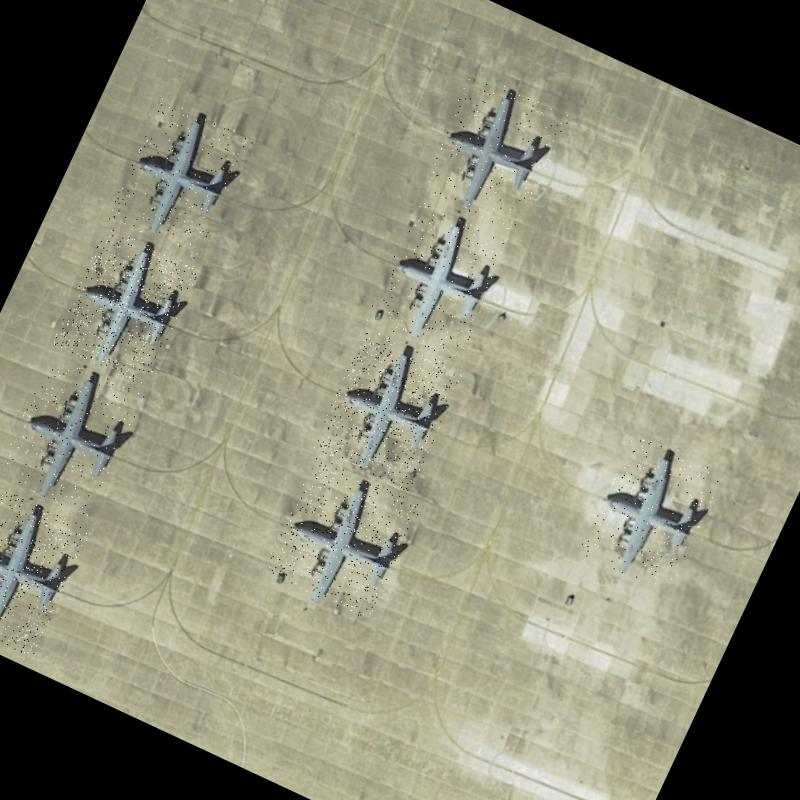A2: (262, 456, 422, 620), (310, 327, 464, 492), (416, 70, 569, 233), (363, 200, 513, 364), (105, 98, 253, 260), (578, 430, 724, 594), (51, 226, 200, 386), (0, 352, 144, 517), (0, 485, 91, 657)
